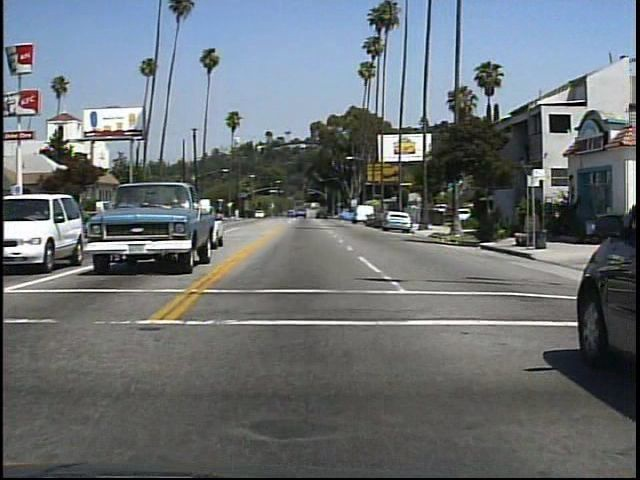person: (491, 199, 515, 247)
